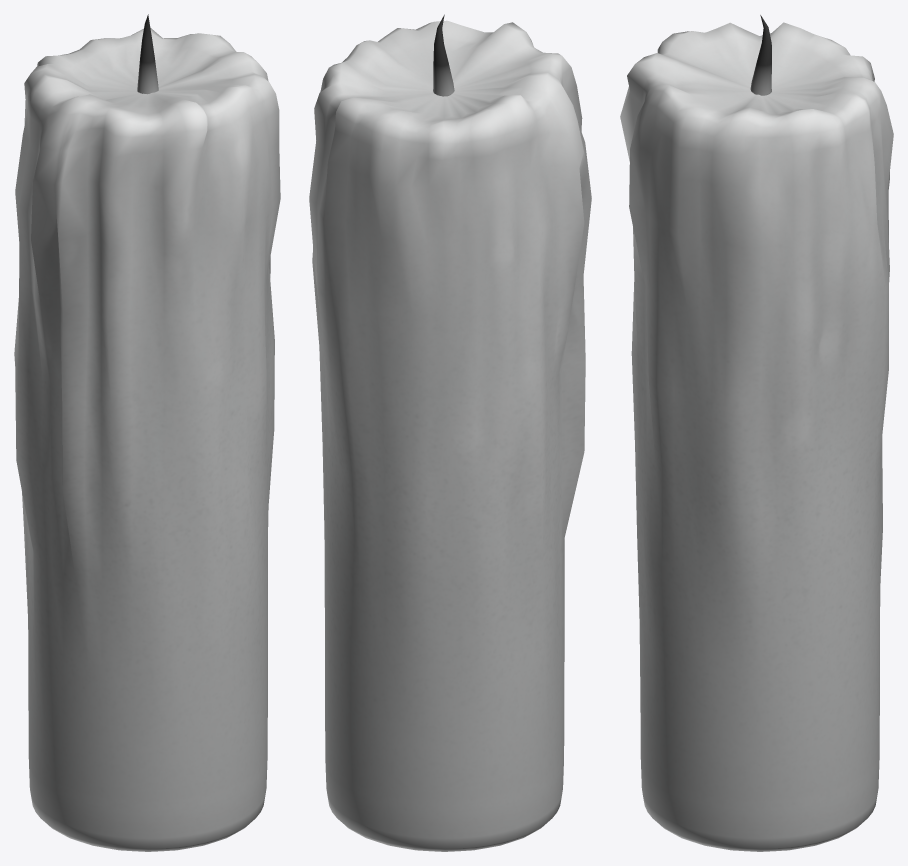
Rendered from vela.fbx.
3 renders of one model, left to right at view 1: azimuth 30°, elevation 25°; view 2: azimuth 150°, elevation 25°; view 3: azimuth 270°, elevation 25°, orthographic.
Parts seen in each view (by area): view 1: vela; view 2: vela; view 3: vela.
Part boxes in pixels (box(x1,y1,x2,y2)): vela: box(14, 14, 280, 851); vela: box(309, 14, 591, 851); vela: box(620, 15, 893, 851).
Bounding box in the file's own units: 0.064 × 0.1986 × 0.0619.
Materials: 1 (1 with a texture image).
